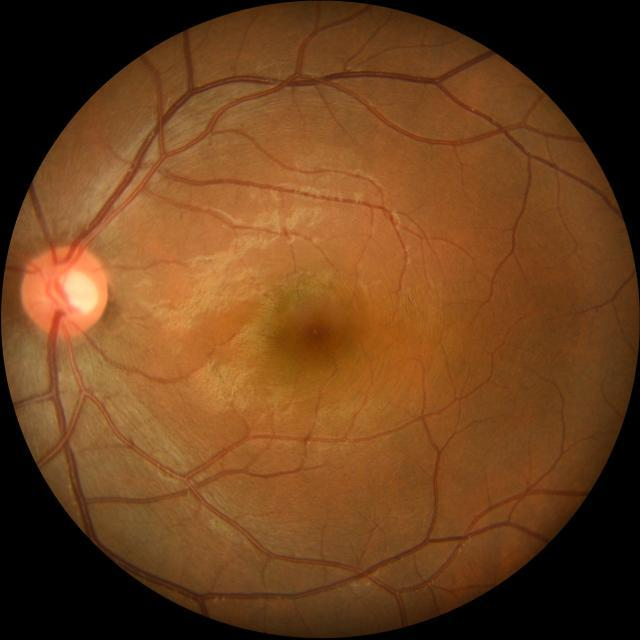OC: (50, 268, 97, 318)
OD: (21, 244, 109, 336)
